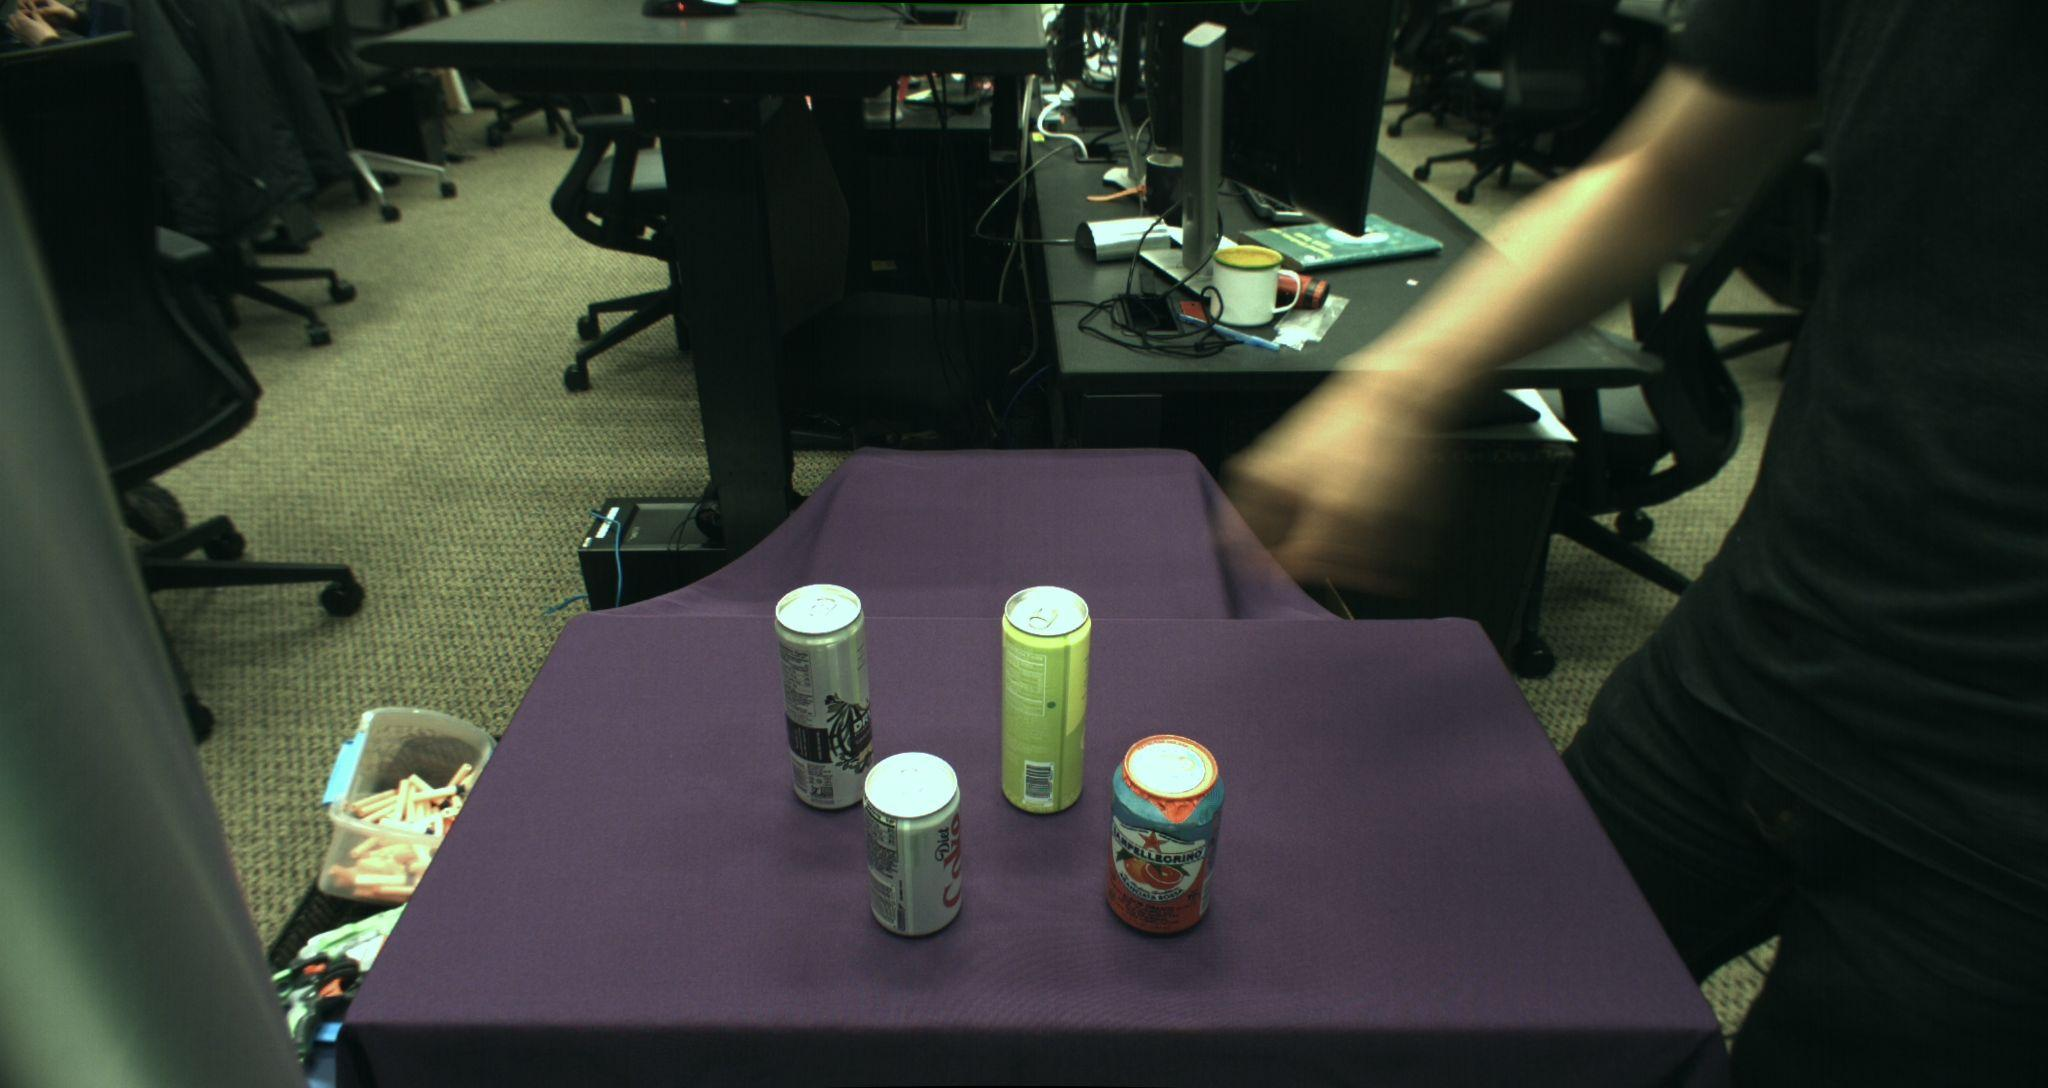can_diet_coke_small: (866, 751, 960, 938)
can_dry_sparkling_vanilla_bean: (773, 583, 876, 812)
can_izze_fusions_lemon_lime: (1107, 734, 1223, 934), (1000, 584, 1090, 817)
